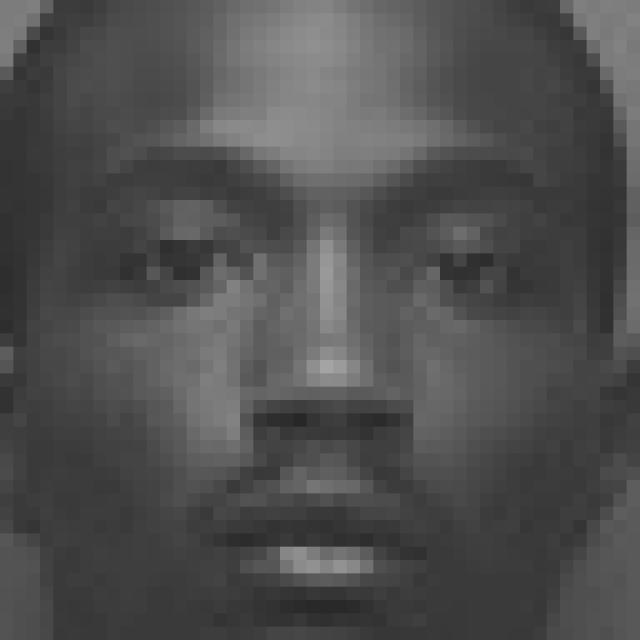neutral: (97, 138, 569, 623)
